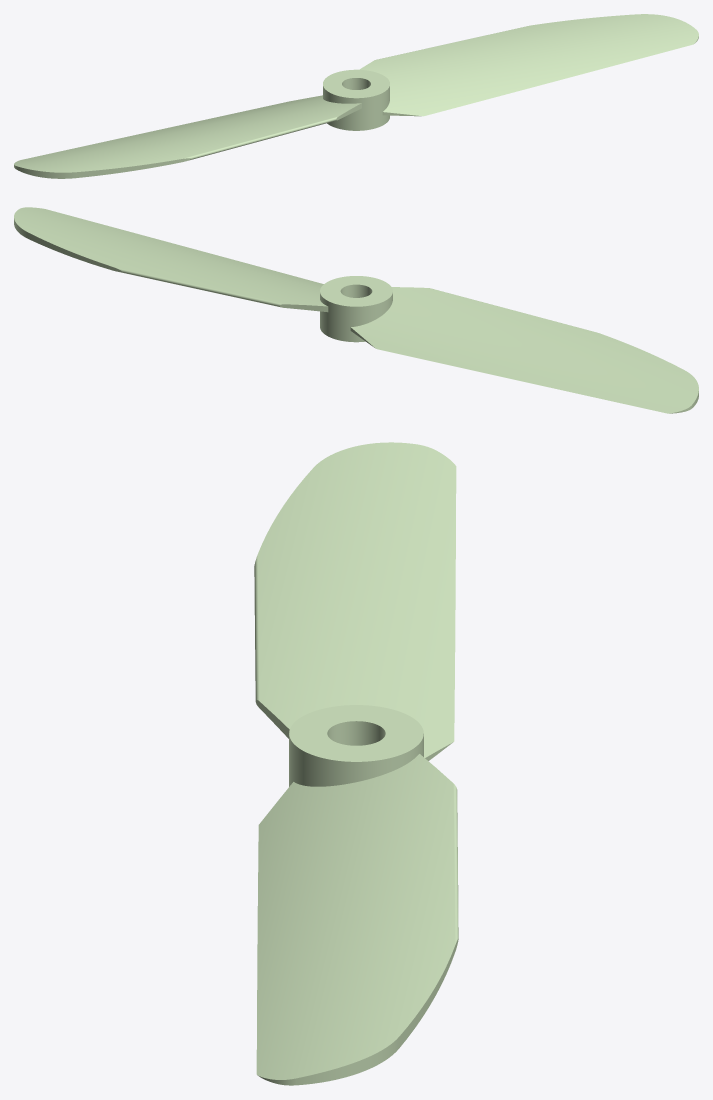
File: halfinho_propeller.dae
3 views of the same model, one above another, from view 1: azimuth 30°, elevation 25°; view 2: azimuth 150°, elevation 25°; view 3: azimuth 270°, elevation 25° (orthographic). The views are drawn at different scales.
Visible parts, largest first — view 1: Object; view 2: Object; view 3: Object.
Boxes of the visible parts, box(x1,y1,x2,y2) form: Object: box(14, 14, 698, 178); Object: box(14, 207, 698, 413); Object: box(254, 442, 458, 1085).
Size of the model in its own units: 0.1273 by 0.0173 by 0.00612.
